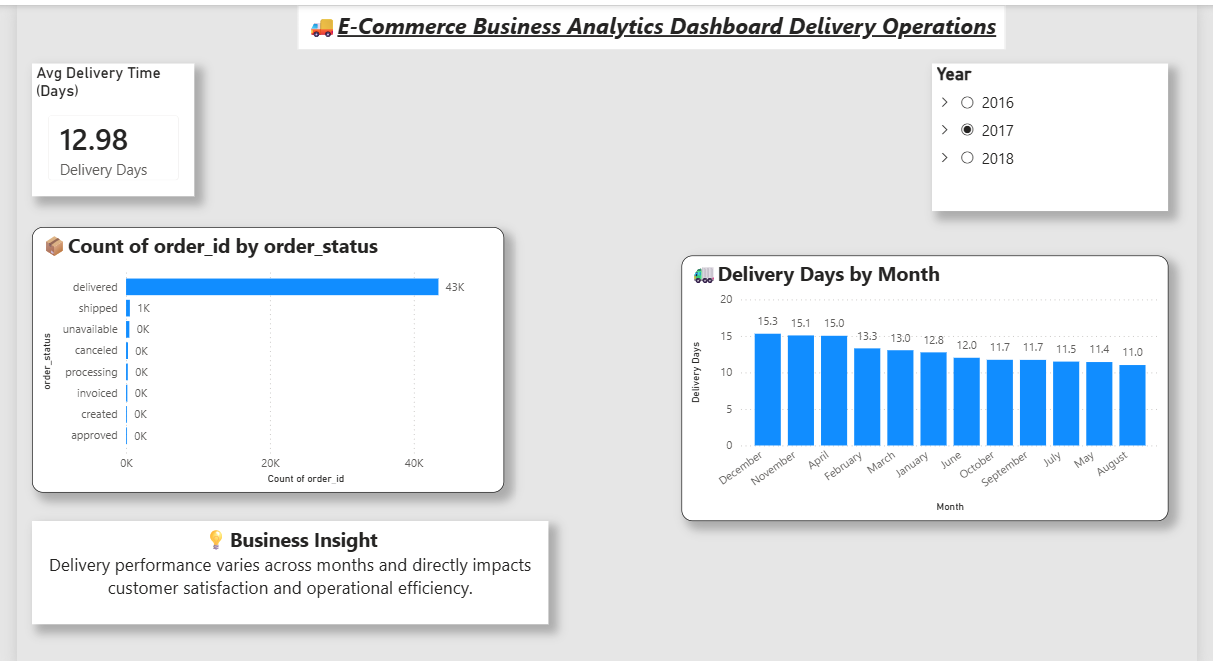

The dashboard page shown, as its layout file describes it:
{"tool":"powerbi","page":{"name":"Detail Analysis","canvas":[1280,720],"ordinal":1},"visuals":[{"type":"listSlicer","fields":{"Values":["cleaned_olist_orders_dataset.Date.Variation.Date Hierarchy.Year"]},"box":[10,0,312.9,324.3],"z":0},{"type":"clusteredBarChart","fields":{"Category":["cleaned_olist_orders_dataset.order_status"],"Y":["Calendar.Order Count"]},"box":[371.4,0,388.6,227.1],"z":1000},{"type":"clusteredColumnChart","fields":{"Category":["Calendar.Month"],"Y":["Calendar.Order Count"]},"box":[542.9,267.1,322.9,261.4],"z":2000},{"type":"cardVisual","fields":{"Data":["Calendar.Total Customers"]},"box":[0,342.9,201.4,168.6],"z":3000},{"type":"listSlicer","fields":{"Values":["Calendar.Date.Variation.Date Hierarchy.Year","Calendar.Date.Variation.Date Hierarchy.Quarter","Calendar.Date.Variation.Date Hierarchy.Month","Calendar.Date.Variation.Date Hierarchy.Day"]},"box":[217.1,398.6,274.3,171.4],"z":3001}]}

Visuals, with their boxes on the page's 1280x720 design canvas (x1, y1, x2, y2). These are canvas units, not pixel positions in the 1213x661 screenshot, which may show the page scaled, cropped or inside an application window:
listSlicer - cleaned_olist_orders_dataset.Date.Variation.Date Hierarchy.Year: bbox=(10, 0, 323, 324)
clusteredBarChart - cleaned_olist_orders_dataset.order_status x Calendar.Order Count: bbox=(371, 0, 760, 227)
clusteredColumnChart - Calendar.Month x Calendar.Order Count: bbox=(543, 267, 866, 528)
cardVisual - Calendar.Total Customers: bbox=(0, 343, 201, 512)
listSlicer - Calendar.Date.Variation.Date Hierarchy.Year x Calendar.Date.Variation.Date Hierarchy.Quarter: bbox=(217, 399, 491, 570)
